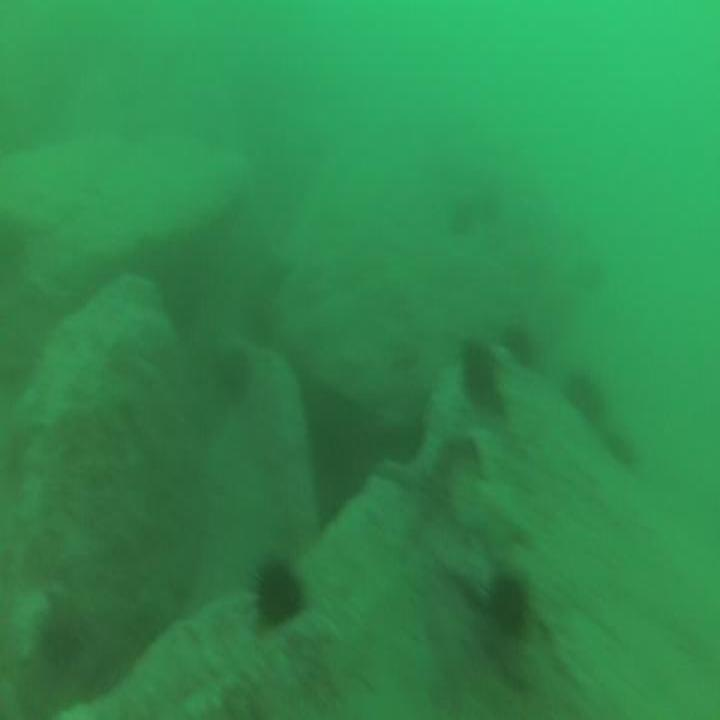echinus: (258, 564, 302, 630), (563, 364, 604, 425), (462, 338, 500, 398), (489, 572, 524, 634), (504, 324, 532, 368)
starfish: (464, 478, 531, 571)
